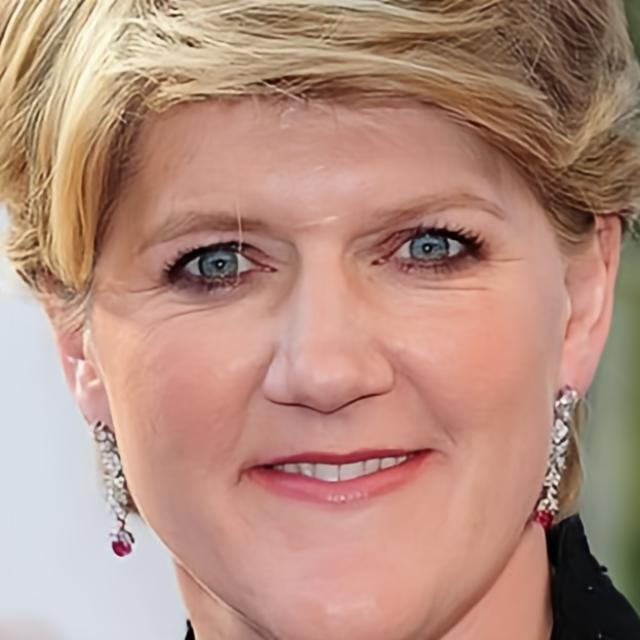happy: (103, 77, 558, 626)
